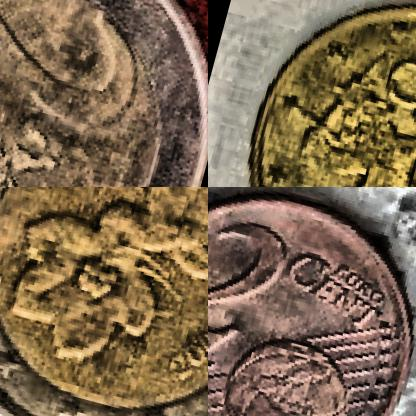coin: (0, 187, 207, 415), (208, 187, 415, 415), (0, 0, 207, 186), (208, 0, 415, 186)
